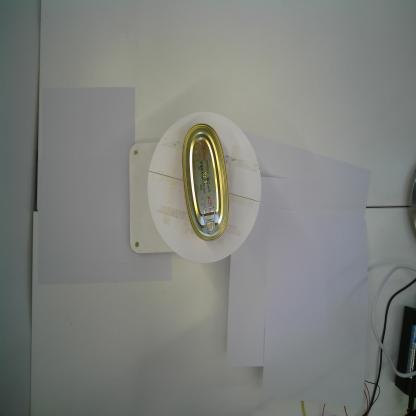Canned Food: (181, 122, 230, 242)
